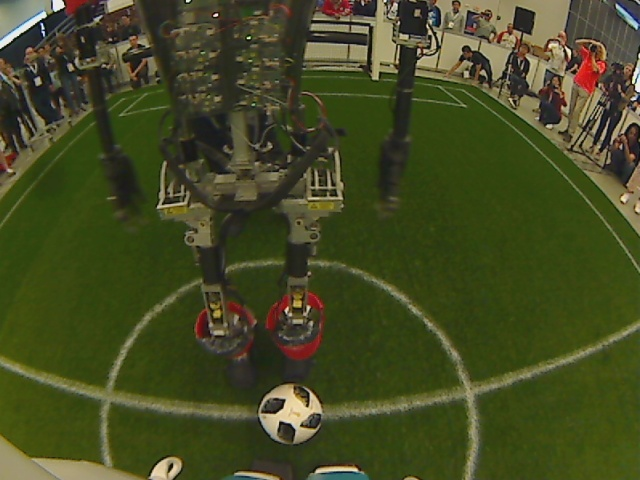ball: (253, 380, 327, 449)
